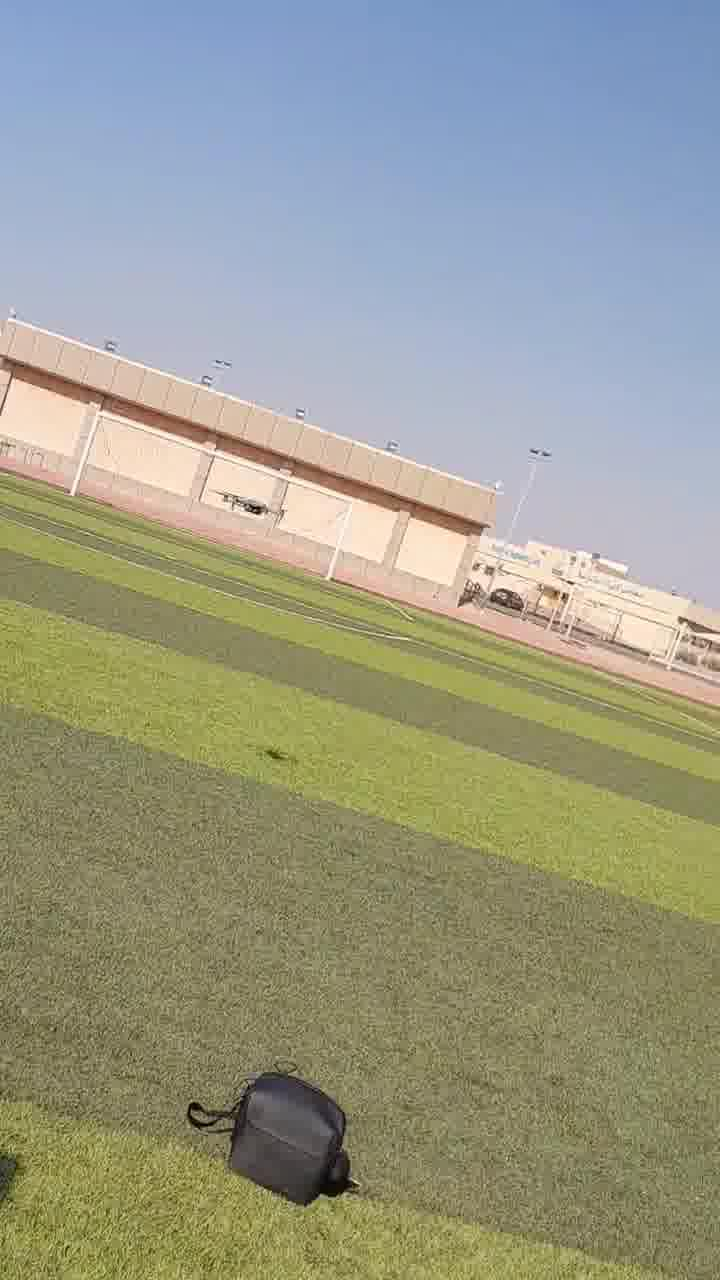drone: (207, 476, 292, 531)
